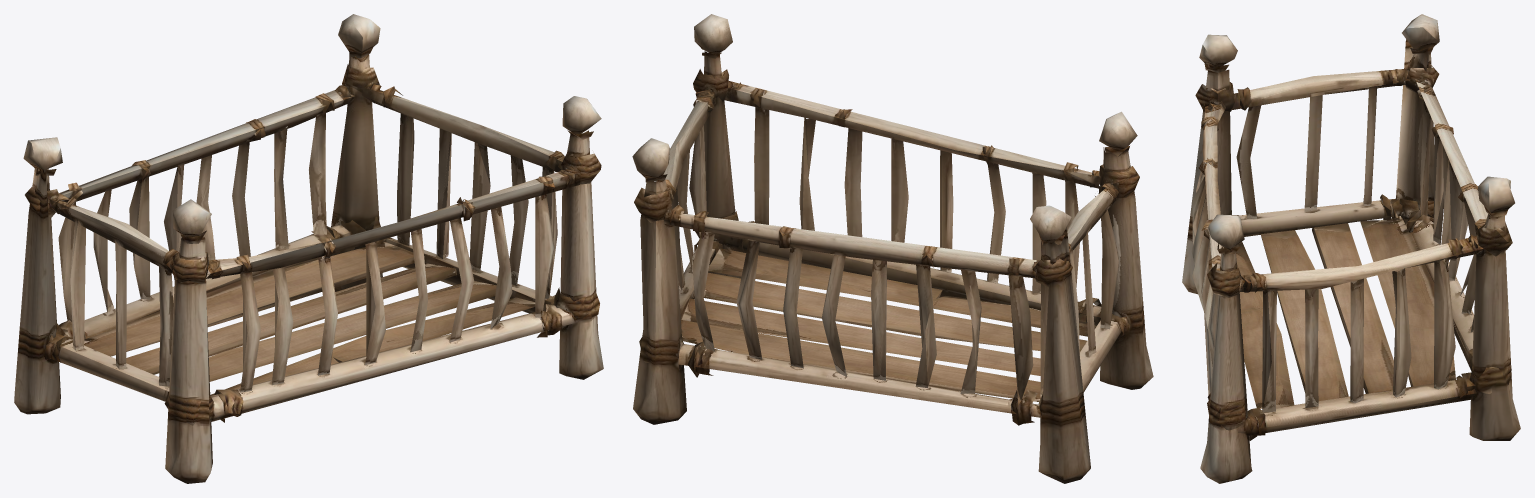
The model's file is act1_kit_v1_crib_frame.glb.
3 renders of one model, left to right at view 1: azimuth 30°, elevation 25°; view 2: azimuth 150°, elevation 25°; view 3: azimuth 270°, elevation 25°, orthographic. The views are drawn at different scales.
Visible parts, largest first — view 1: A14_1_crib_frame; view 2: A14_1_crib_frame; view 3: A14_1_crib_frame.
Part boxes in pixels (x1=…): A14_1_crib_frame: x1=14, y1=14, x2=603, y2=483; A14_1_crib_frame: x1=632, y1=14, x2=1153, y2=483; A14_1_crib_frame: x1=1182, y1=14, x2=1520, y2=483.
Size of the model in its own units: 0.9985 by 0.5345 by 0.6231.
1 material, 1 textured.
